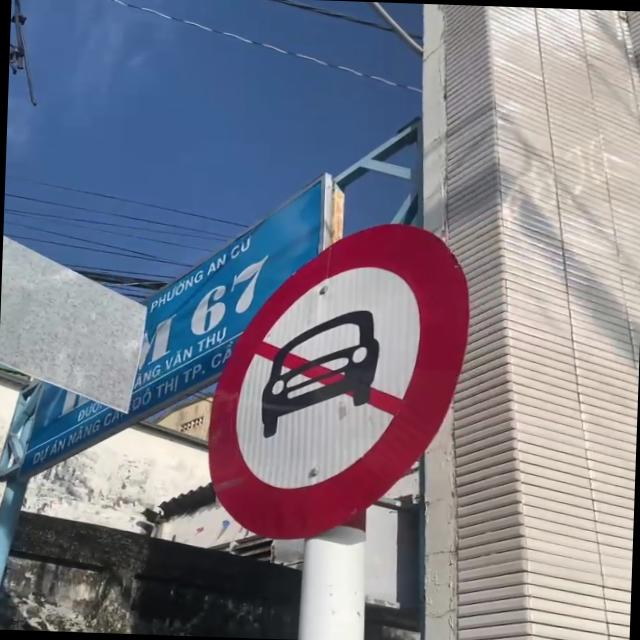Cam_O_To: (203, 214, 480, 549)
